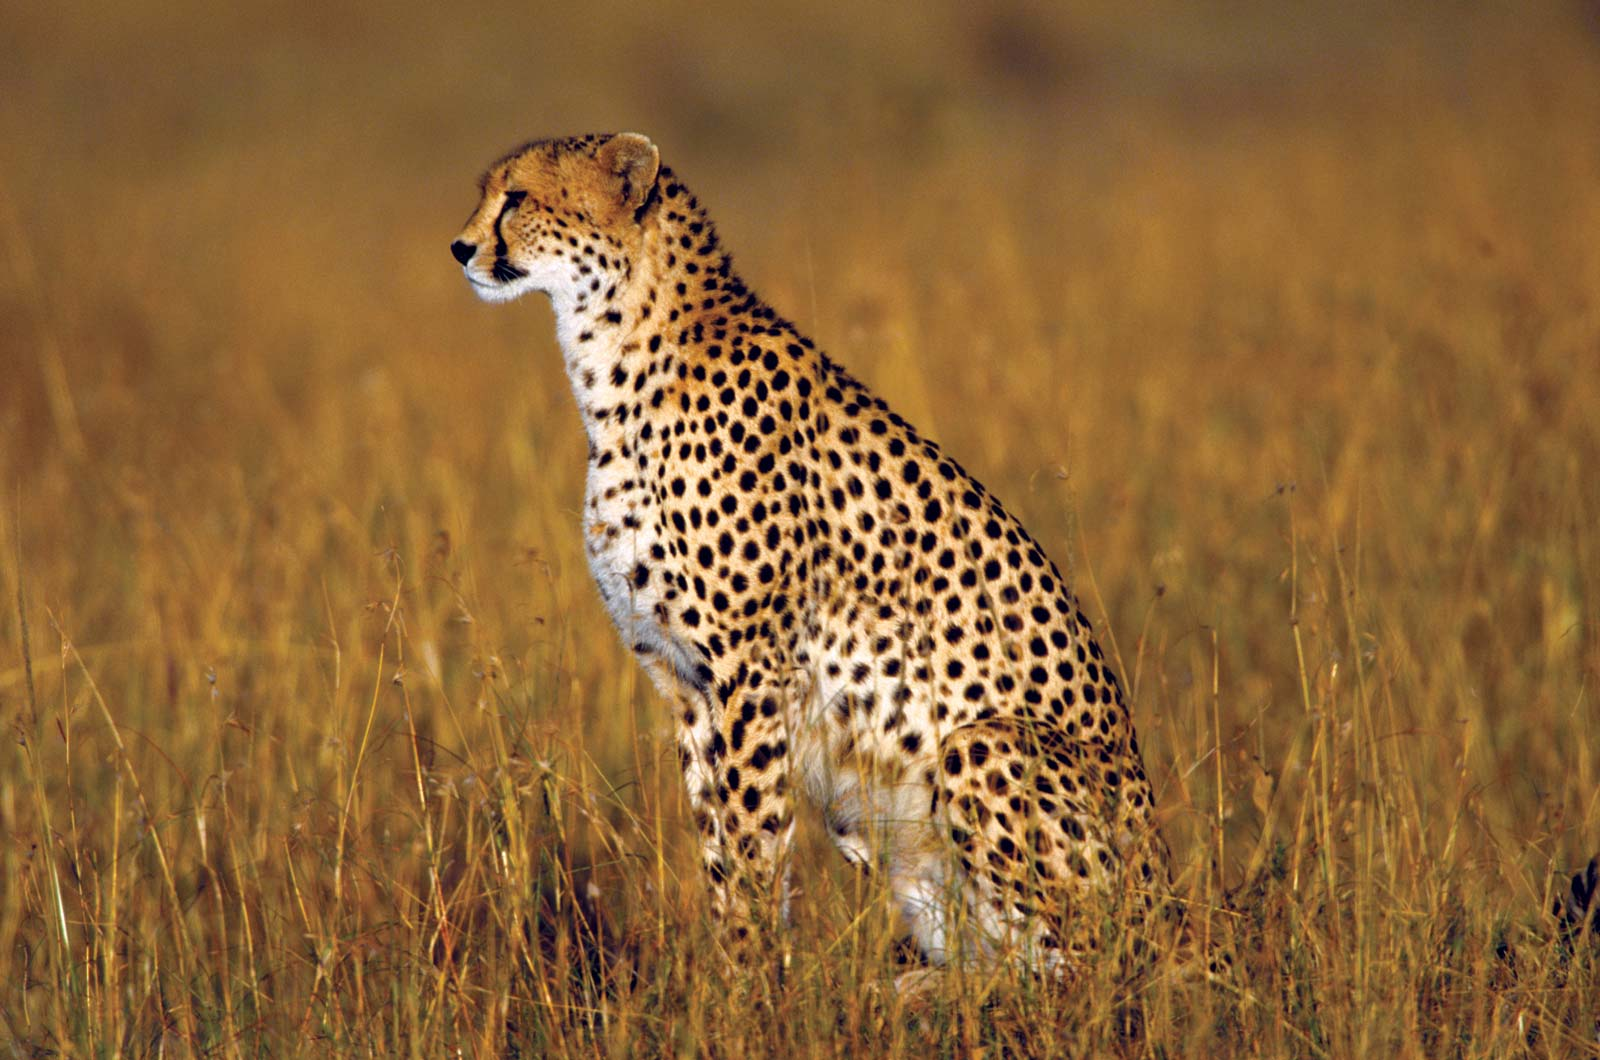cheetah: (422, 111, 724, 314)
